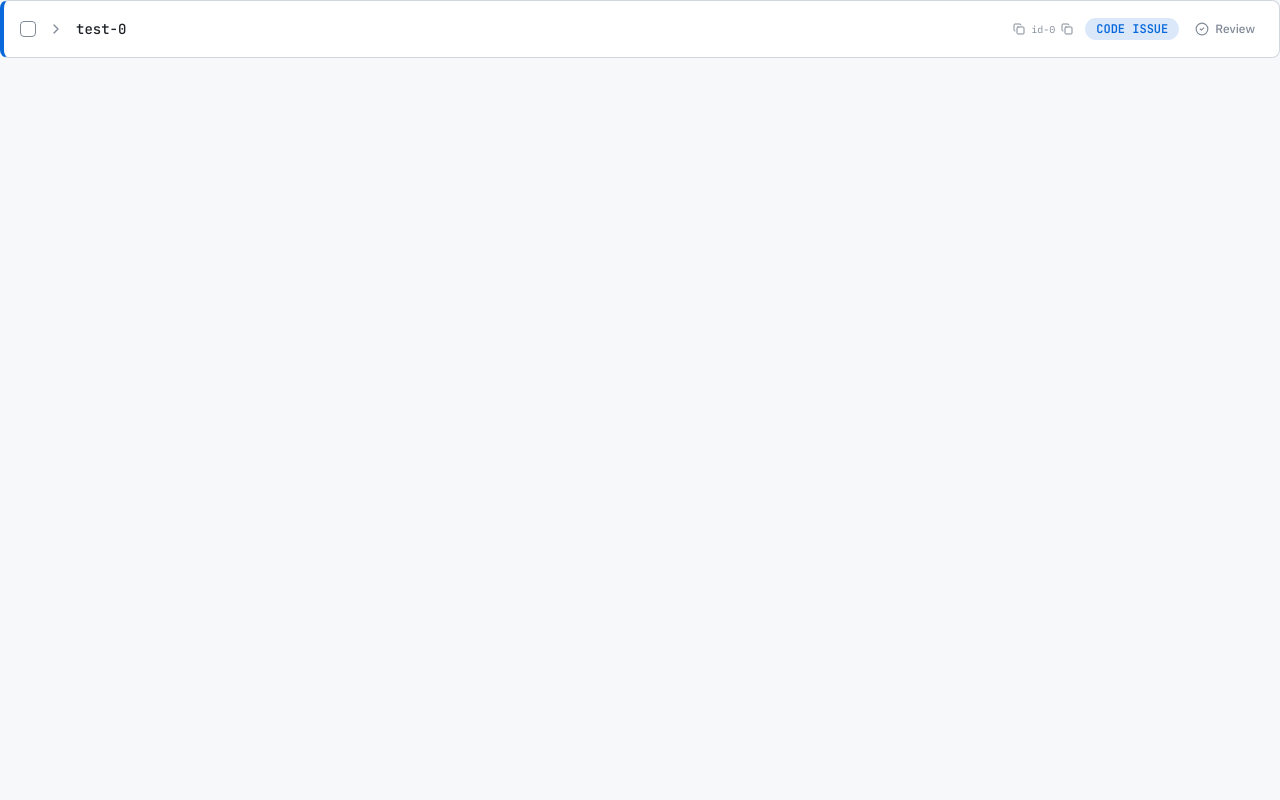
Test: FailureCard primary usage › shows the group primary usage in the first orchestrator round
This screenshot has width=1280, height=800.
Click the button "test-0": (101, 29) [48,19,1001,39]
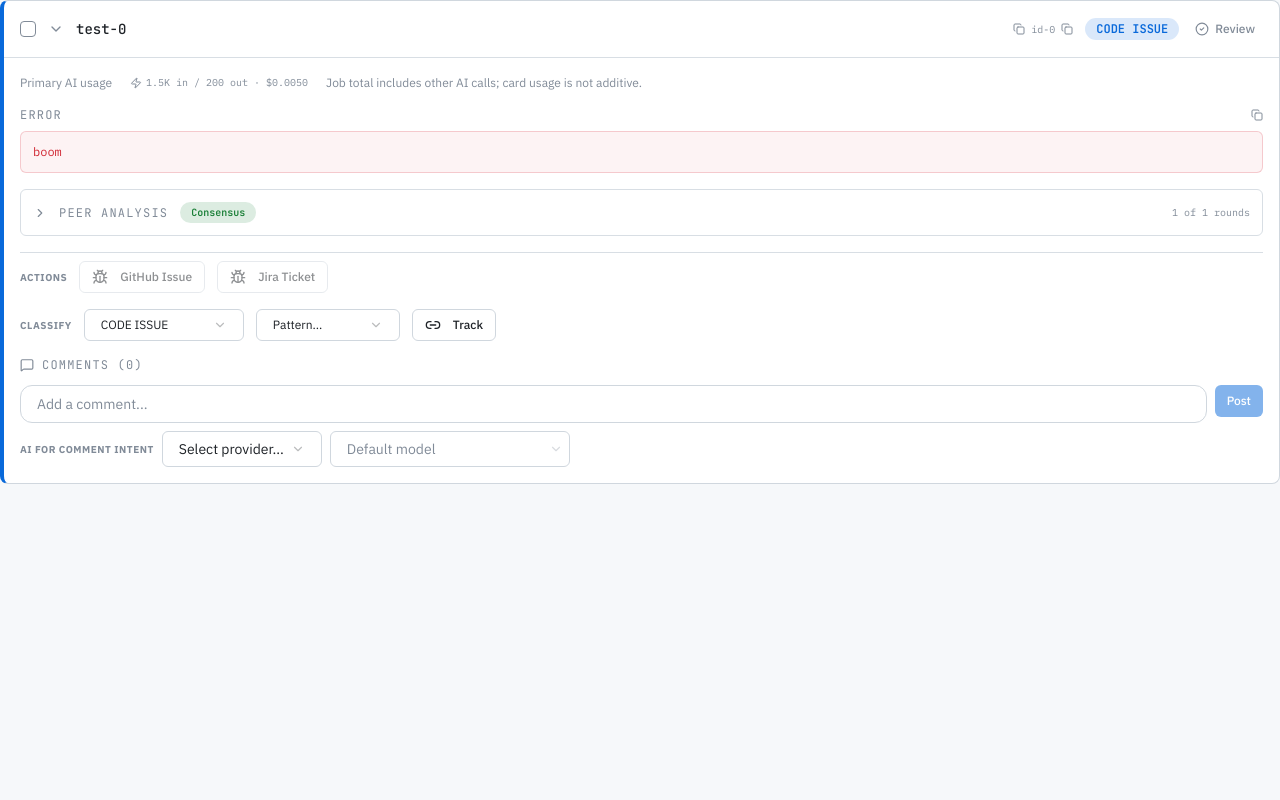
Click the button "Peer Analysis Consensus 1 of 1 rounds": (114, 213) [21,190,1262,235]
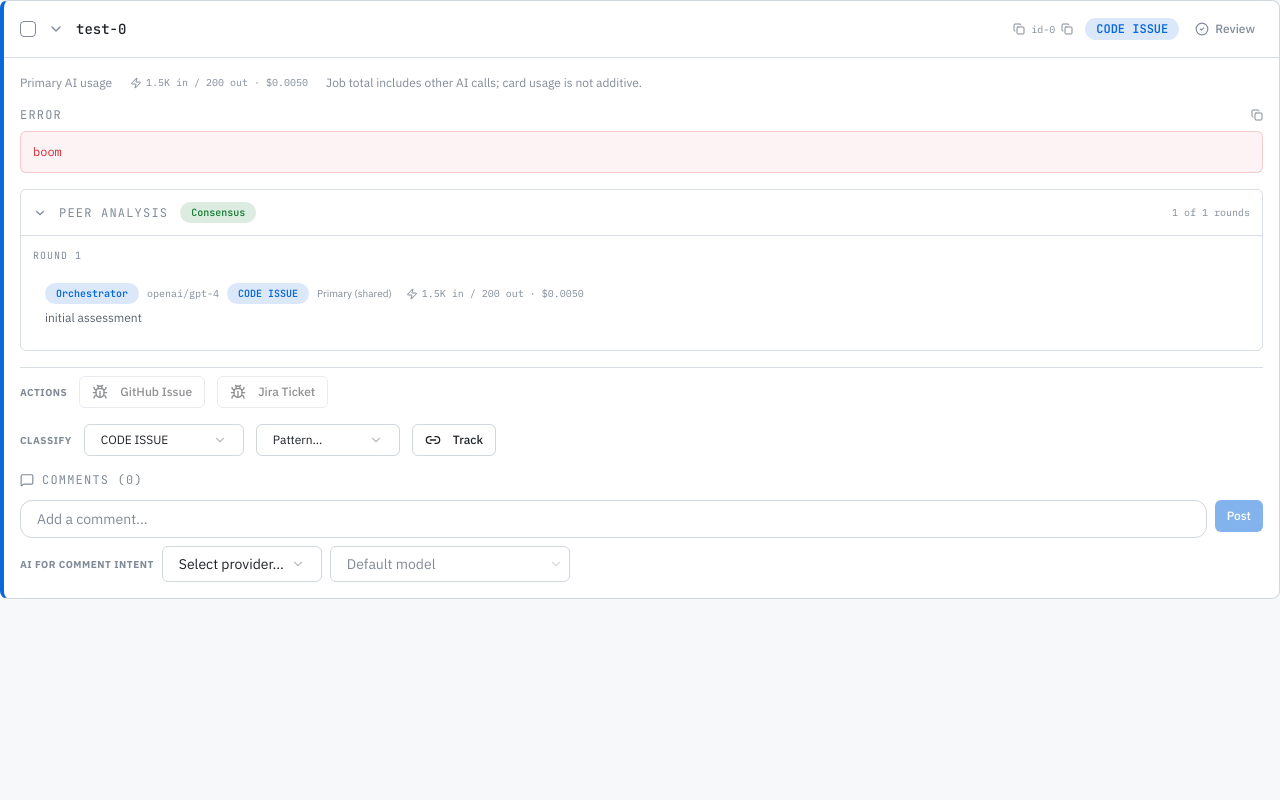
Result: the text "Primary (shared)" is shown at [317,287,392,300]
Result: the text "1.5K in / 200 out · $0.0050" is shown 2 times at [120,74,318,91]; [396,284,594,303]
